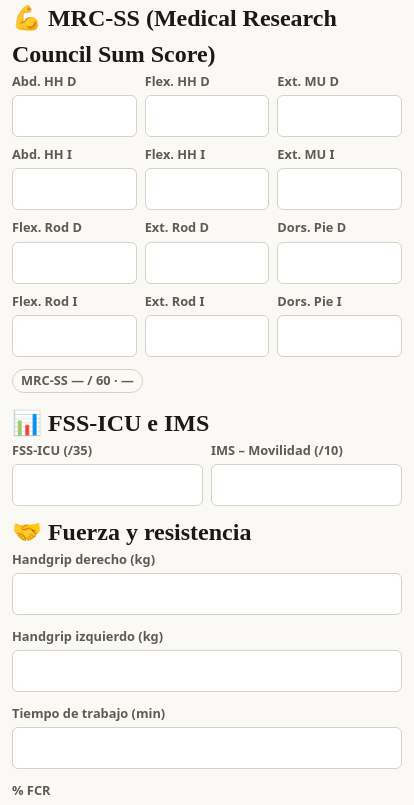
Test: el total en vivo se recalcula null-safe mientras se completa el formulario
Type "5" into the field labelled "Abd. HH D". click: coordinates (74, 116)
box: top-left (12, 95), bottom-right (137, 137)
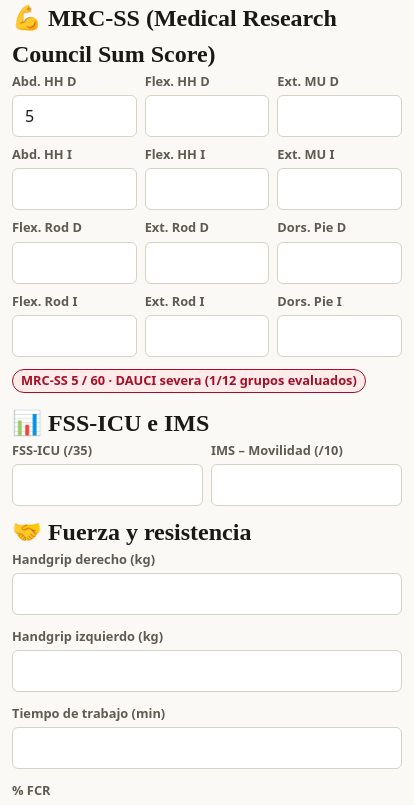
Type "5" into the field labelled "Flex. HH D". click: coordinates (207, 116)
box: top-left (145, 95), bottom-right (269, 137)
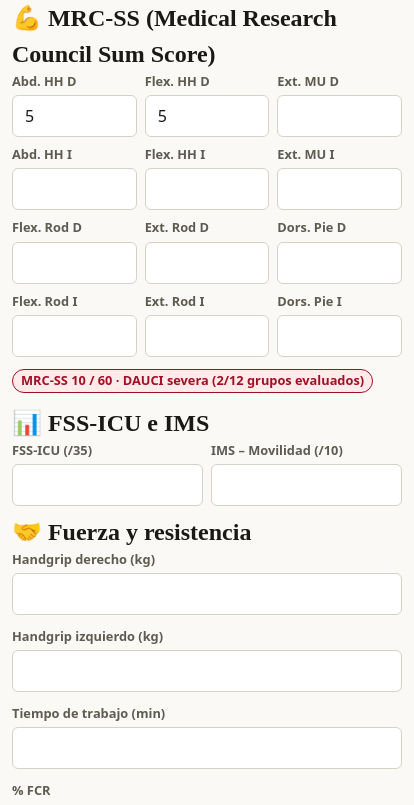
Now the text "MRC-SS 10 / 60 · DAUCI severa (2/12 grupos evaluados)" is shown, box top-left (12, 369), bottom-right (373, 393)
